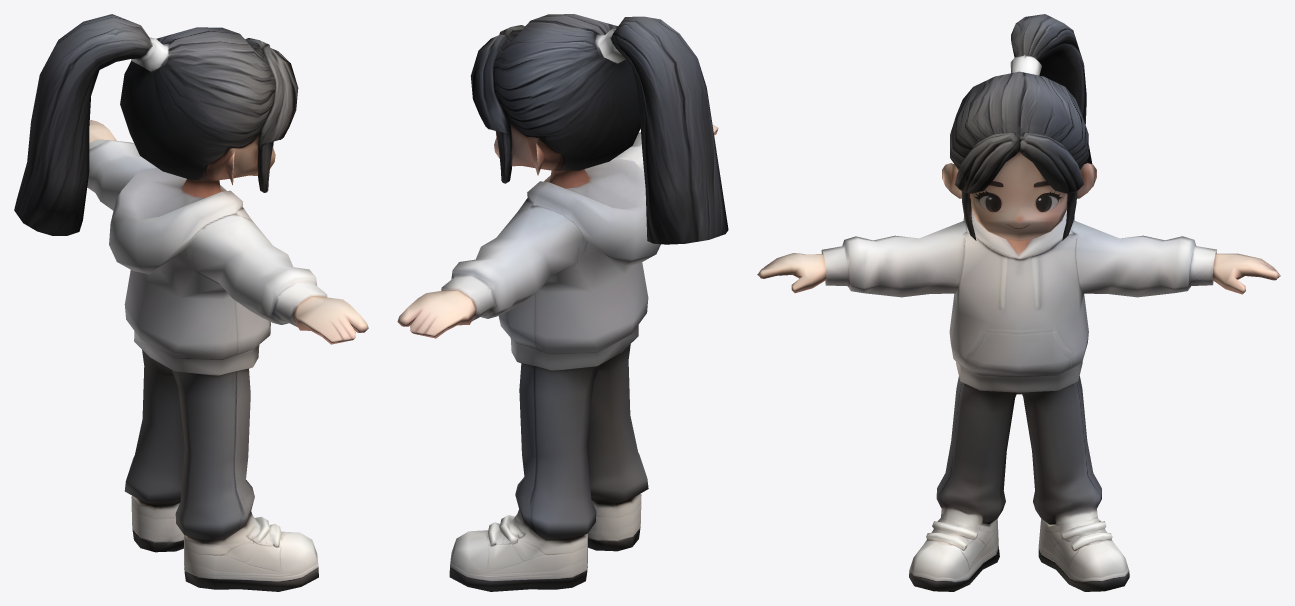
3 renders of one model, left to right at view 1: azimuth 30°, elevation 25°; view 2: azimuth 150°, elevation 25°; view 3: azimuth 270°, elevation 25°, orthographic. The views are drawn at different scales.
Visible parts, largest first — view 1: tripo_node_f6b68024-7abd-4814-a713-778d65afaf48; view 2: tripo_node_f6b68024-7abd-4814-a713-778d65afaf48; view 3: tripo_node_f6b68024-7abd-4814-a713-778d65afaf48.
Boxes of the visible parts, <box> form: tripo_node_f6b68024-7abd-4814-a713-778d65afaf48: <box>14,14,368,591</box>; tripo_node_f6b68024-7abd-4814-a713-778d65afaf48: <box>397,14,728,591</box>; tripo_node_f6b68024-7abd-4814-a713-778d65afaf48: <box>757,14,1280,591</box>.
Bounding box in the file's own units: 0.4634 × 0.9995 × 0.9341.
Materials: 1 (1 with a texture image).
